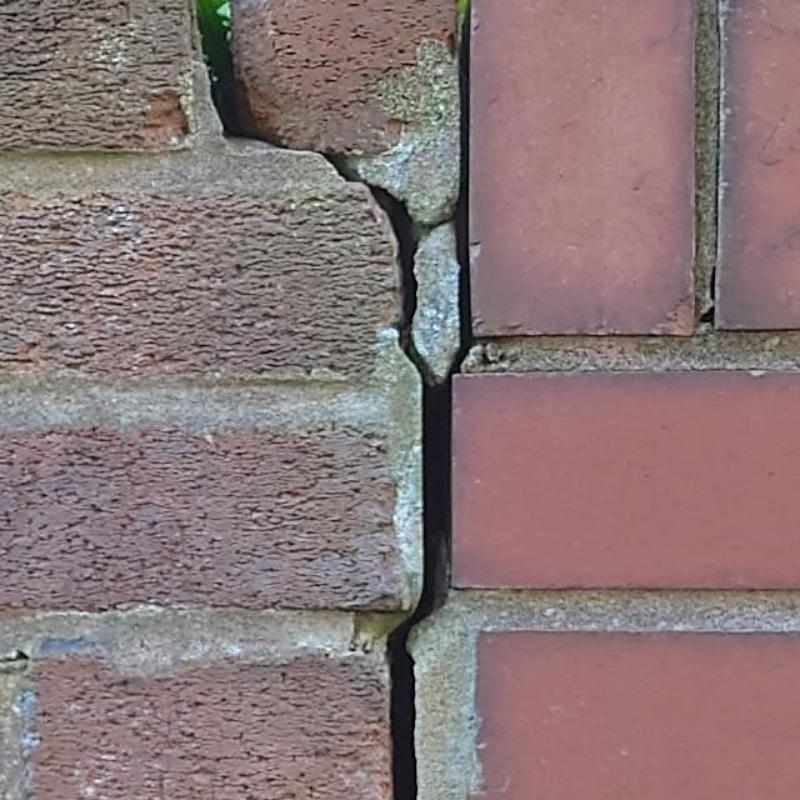crack: (370, 0, 472, 799), (197, 0, 275, 143), (327, 155, 361, 180)
